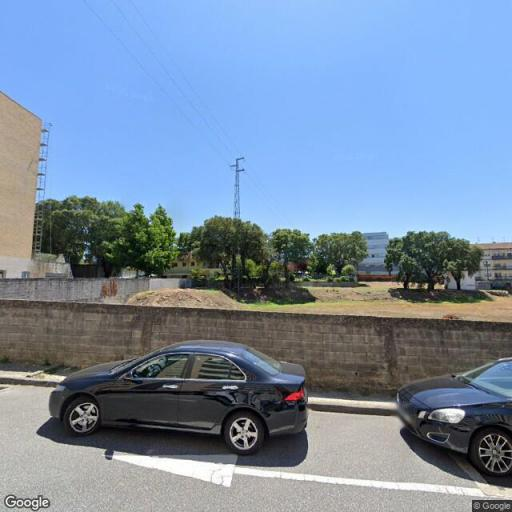ss_4: (228, 153, 247, 218)
